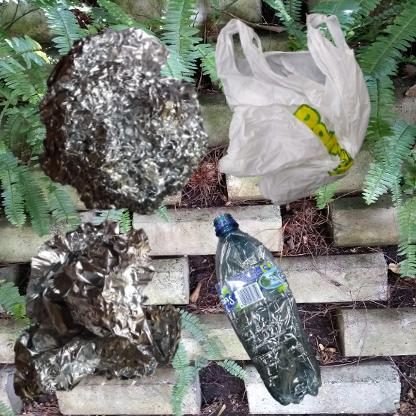aluminio: (10, 10, 234, 249), (10, 213, 189, 416)
bolsa: (213, 10, 375, 209)
botella: (213, 213, 322, 406)
